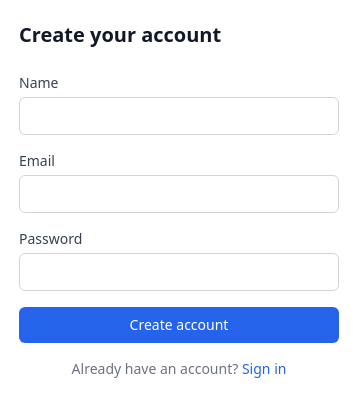
RegisterScreen › shows an inline error for an invalid email format
Type "Alice" into the field labelled "Name" at (179, 116), box [19,97,339,135]
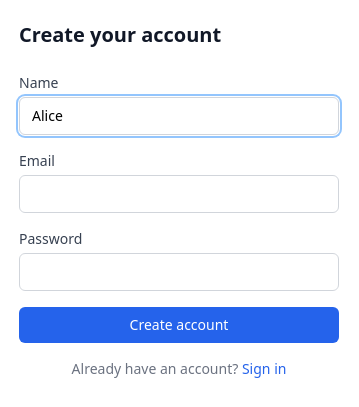
Type "not-an-email" into the field labelled "Email" at (179, 194), box [19,175,339,213]
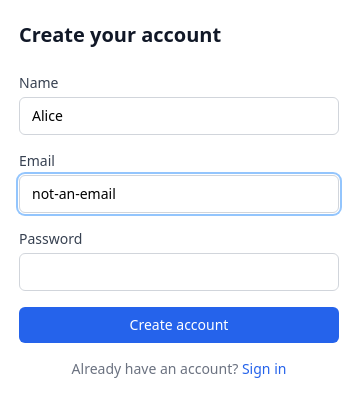
Type "password123" into the password field labelled "Password" at (179, 272), box [19,253,339,291]
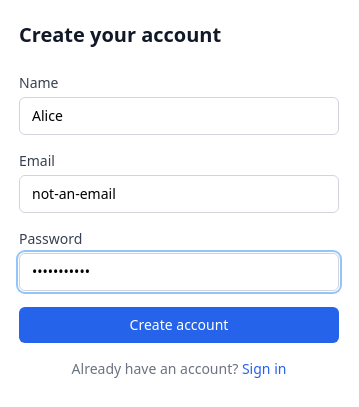
Click the button "Create account" at (179, 325), box [19,307,339,343]
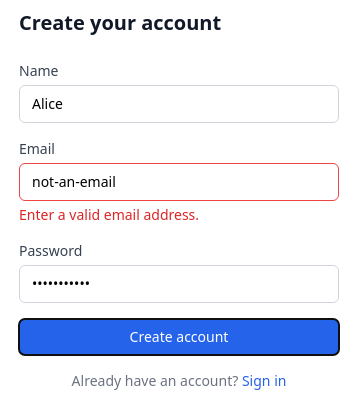
Now the text "Enter a valid email address." is shown, box [19,205,199,224]
